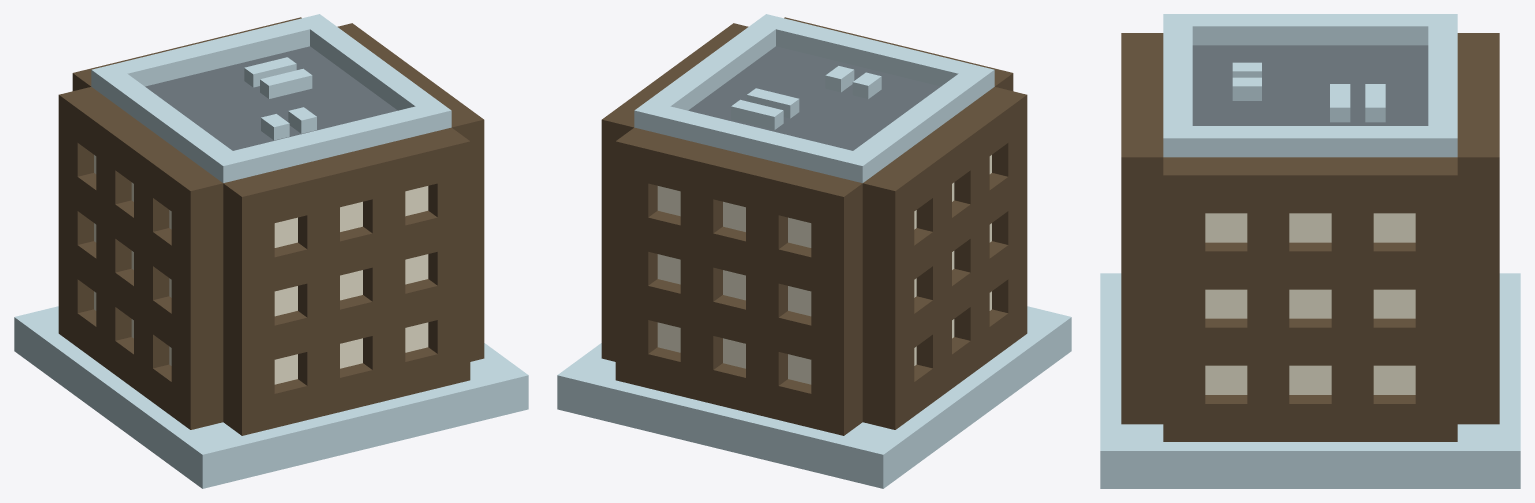
File: Building_1_Base_Extra (Brown).obj
The picture shows the model from 3 angles, left to right: view 1: azimuth 30°, elevation 25°; view 2: azimuth 150°, elevation 25°; view 3: azimuth 270°, elevation 25°; orthographic projection. The views are drawn at different scales.
Parts seen in each view (by area): view 1: Building_1_Base_Extra_(Brown); view 2: Building_1_Base_Extra_(Brown); view 3: Building_1_Base_Extra_(Brown).
Boxes of the visible parts, x1,y1,x2,y2 form: Building_1_Base_Extra_(Brown): (14, 14, 528, 488); Building_1_Base_Extra_(Brown): (557, 14, 1071, 488); Building_1_Base_Extra_(Brown): (1100, 14, 1520, 488).
Size of the model in its own units: 2 by 1.7 by 2.
